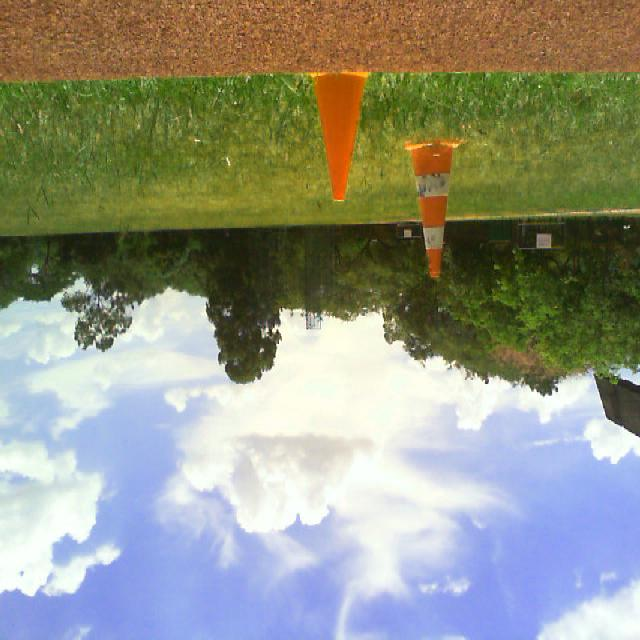cone: (404, 141, 461, 279), (309, 72, 369, 201)
